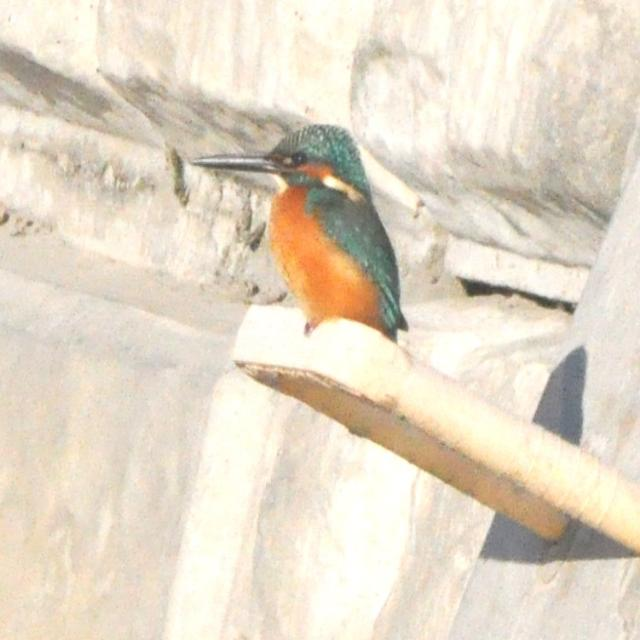bird: (195, 116, 408, 352)
